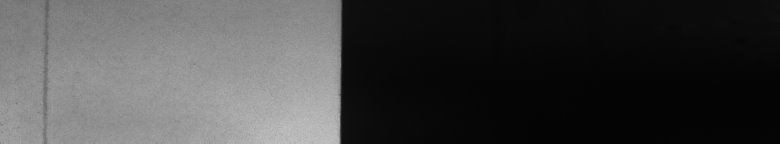hd: (40, 4, 53, 136)
